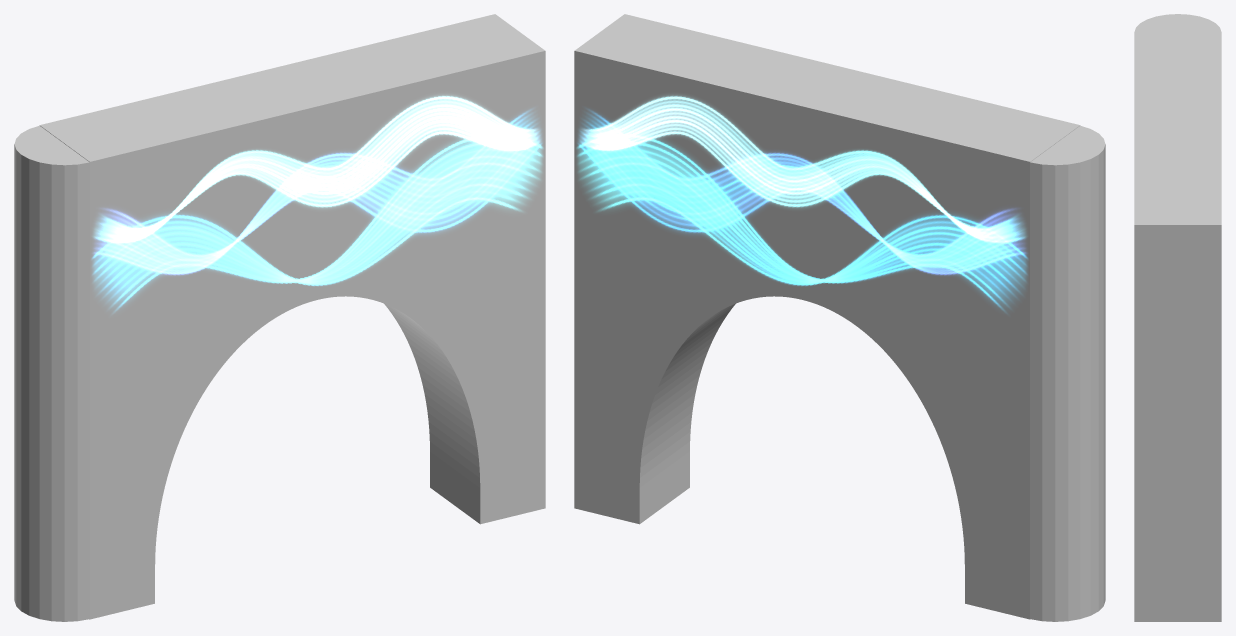
Rendered from Arch_R5D07_LayeredVeils.fbx.
3 renders of one model, left to right at view 1: azimuth 30°, elevation 25°; view 2: azimuth 150°, elevation 25°; view 3: azimuth 270°, elevation 25°, orthographic. The views are drawn at different scales.
Parts seen in each view (by area): view 1: Arch_R5D07_LayeredVeils; view 2: Arch_R5D07_LayeredVeils; view 3: Arch_R5D07_LayeredVeils.
Boxes of the visible parts, box(x1,y1,x2,y2) form: Arch_R5D07_LayeredVeils: box(14, 14, 545, 621); Arch_R5D07_LayeredVeils: box(574, 14, 1105, 621); Arch_R5D07_LayeredVeils: box(1134, 14, 1221, 621).
Size of the model in its own units: 2.29 by 2.01 by 0.4.
